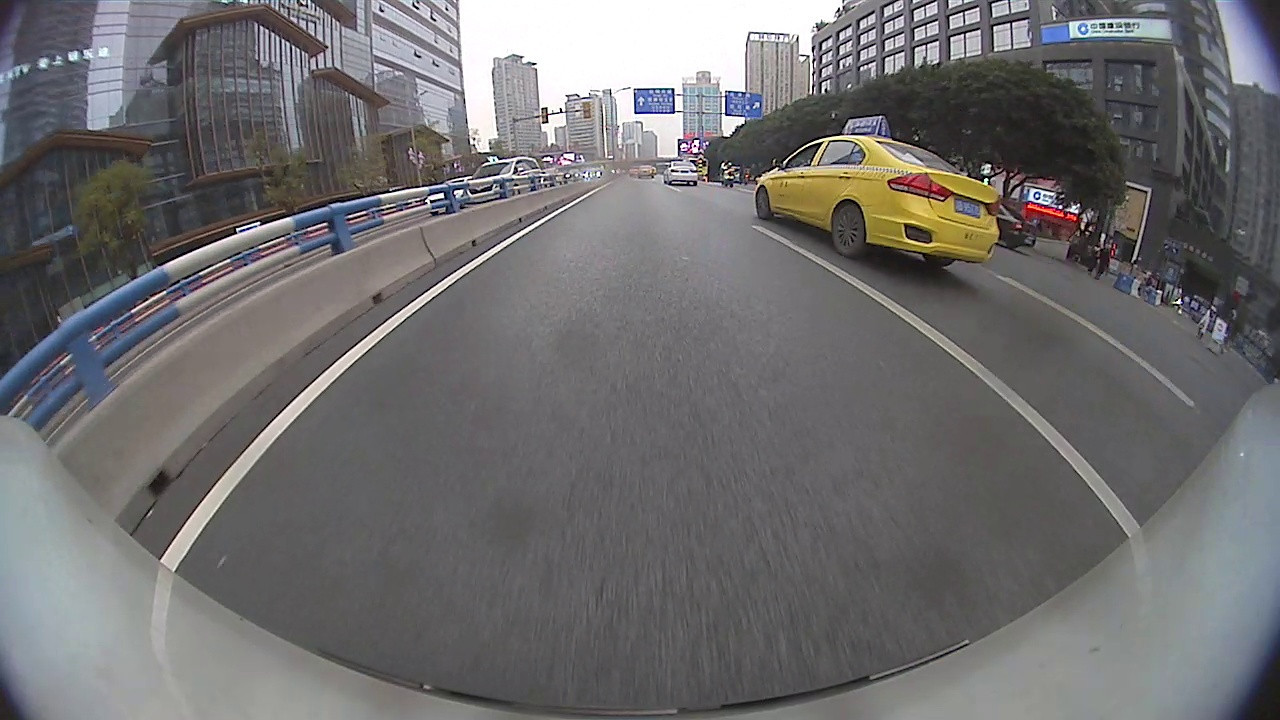car: (752, 113, 1003, 273), (463, 153, 547, 205), (995, 202, 1039, 251), (424, 175, 473, 218), (661, 158, 700, 188)
front: (754, 187, 773, 223)
person: (1201, 302, 1216, 348)
rear: (828, 202, 869, 260)
